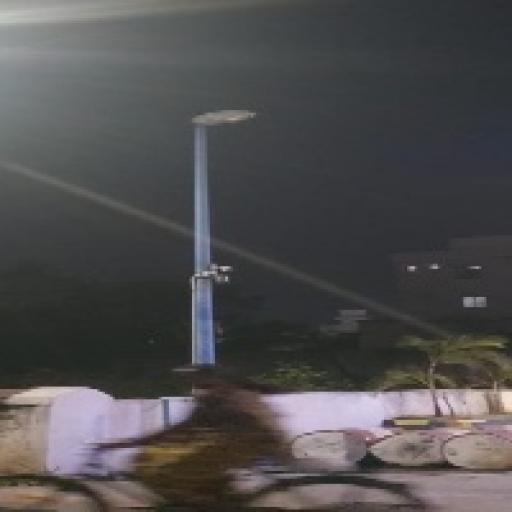Not Working: (188, 100, 258, 132)
